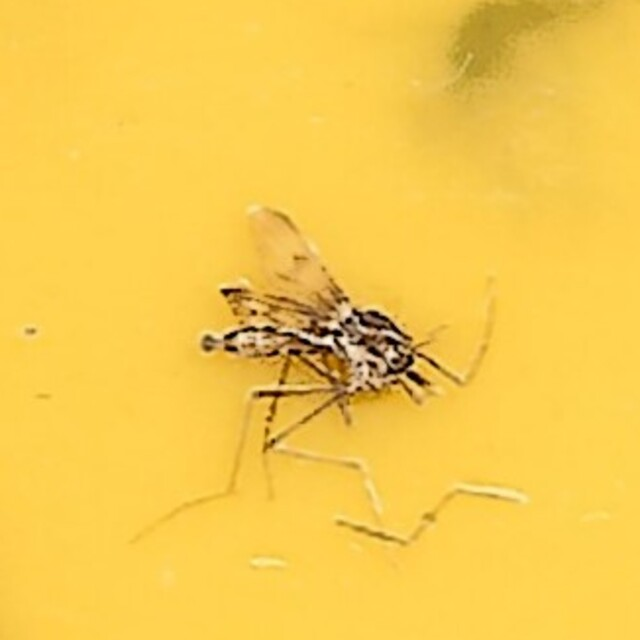Nematocera: (196, 208, 444, 432)
